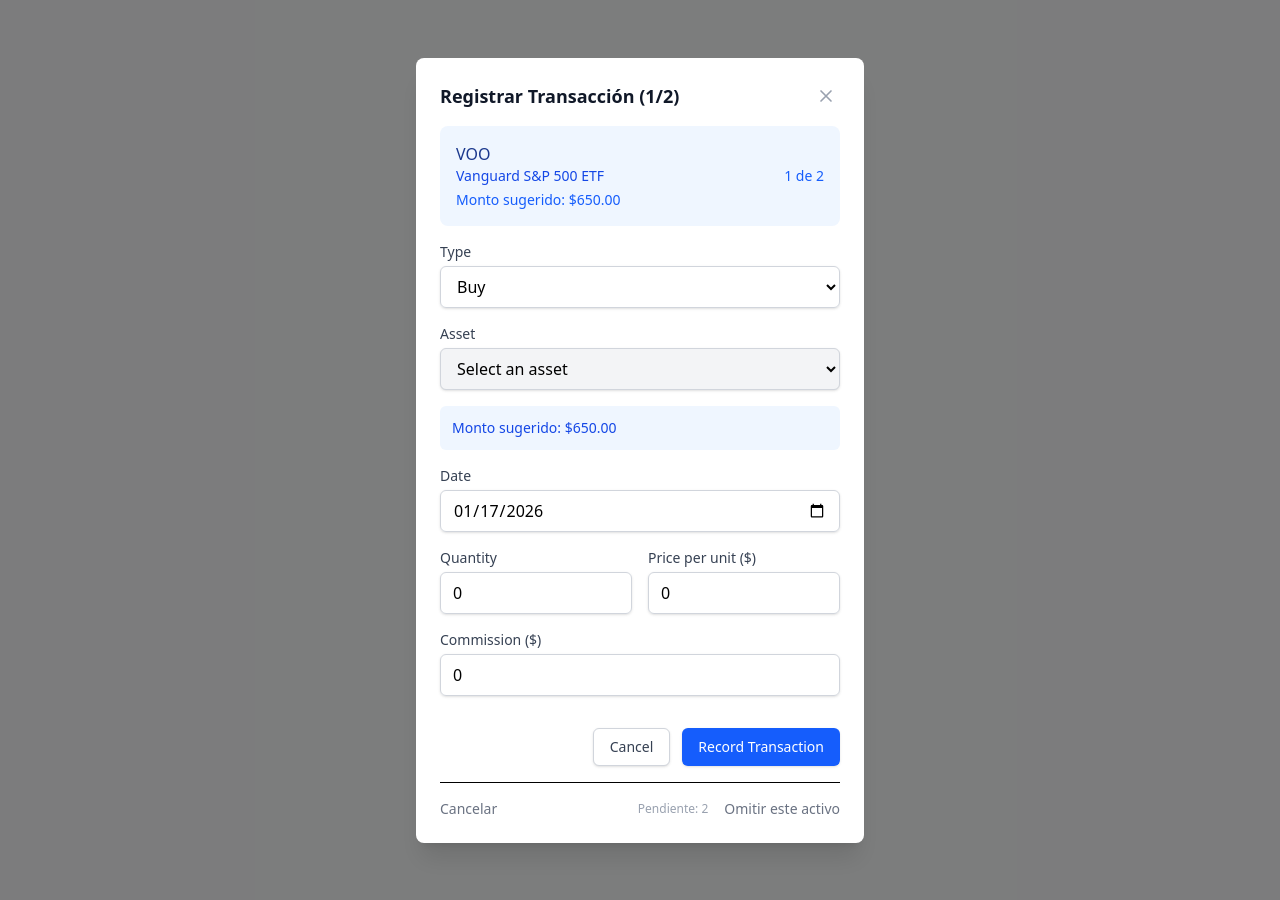
Test: ContributionFlowModal › should advance to next asset when skip is clicked
This screenshot has width=1280, height=900.
Expected: the text "VOO" is shown, [456,142,490,164]
Click the button "Omitir este activo" at (782, 808), box [724,798,840,818]
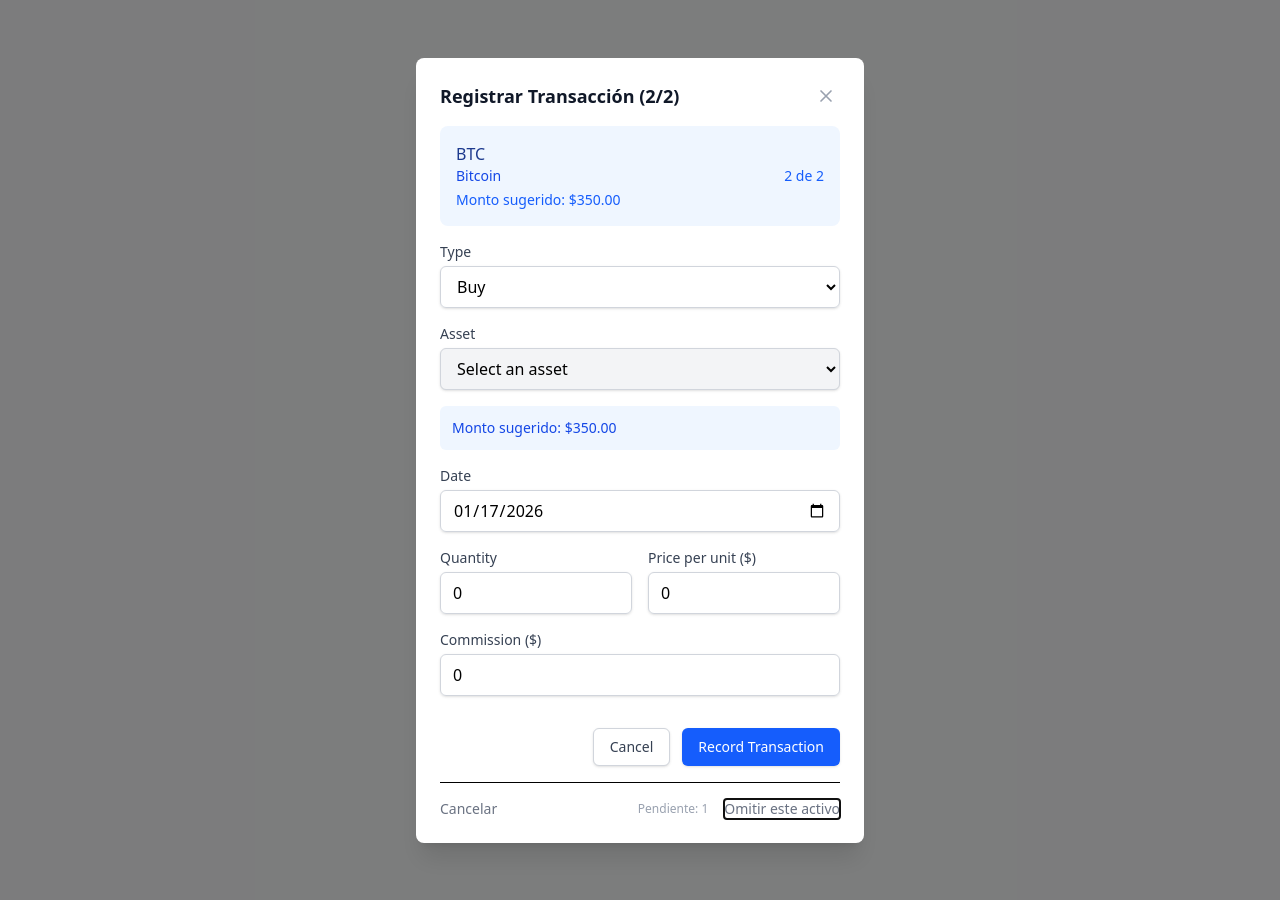
Now the text "BTC" is shown, box [456,142,485,164]
